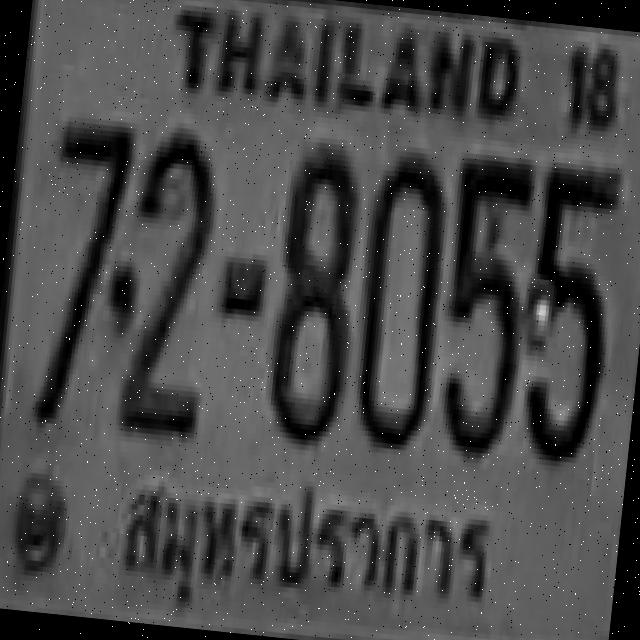0: (344, 146, 451, 449)
2: (106, 121, 223, 435)
5: (512, 158, 622, 462), (428, 152, 535, 460)
7: (29, 113, 134, 426), (38, 116, 134, 342)
8: (260, 140, 364, 442)
SamutPrakan: (110, 451, 511, 640)
